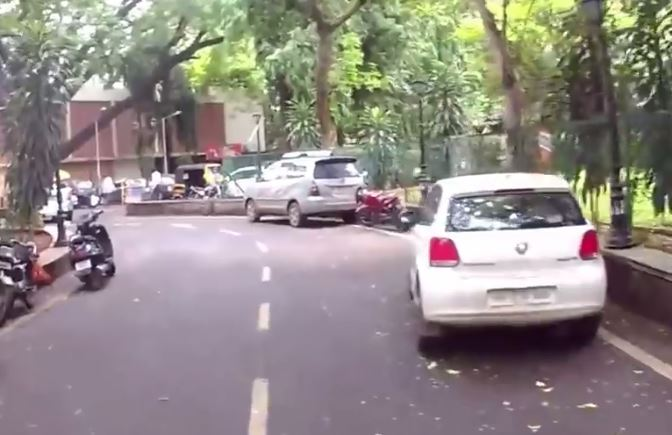autorickshaw: (174, 158, 226, 197)
car: (399, 168, 615, 369), (244, 145, 369, 239)
